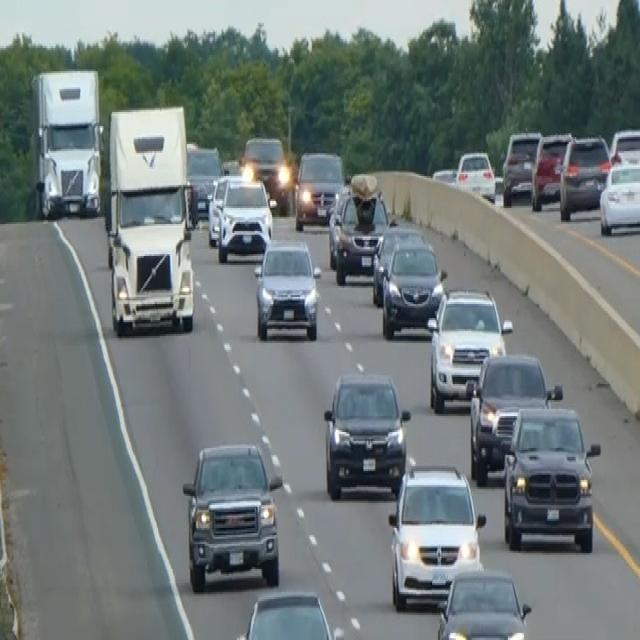car: (501, 402, 601, 553), (387, 458, 486, 610), (467, 350, 561, 486), (322, 368, 410, 500), (426, 284, 512, 412), (253, 236, 321, 342), (435, 566, 532, 638), (380, 236, 446, 338), (334, 172, 389, 284), (231, 587, 340, 638), (216, 175, 273, 262), (370, 220, 425, 306), (558, 134, 611, 220), (293, 148, 344, 231), (241, 134, 290, 212), (530, 130, 572, 210), (598, 156, 639, 234), (185, 140, 224, 218), (501, 128, 541, 204), (206, 169, 245, 245), (454, 148, 496, 202), (326, 181, 352, 267), (609, 124, 639, 166)
jeep: (181, 437, 284, 592)
lorry: (103, 101, 196, 336), (29, 64, 104, 220)
